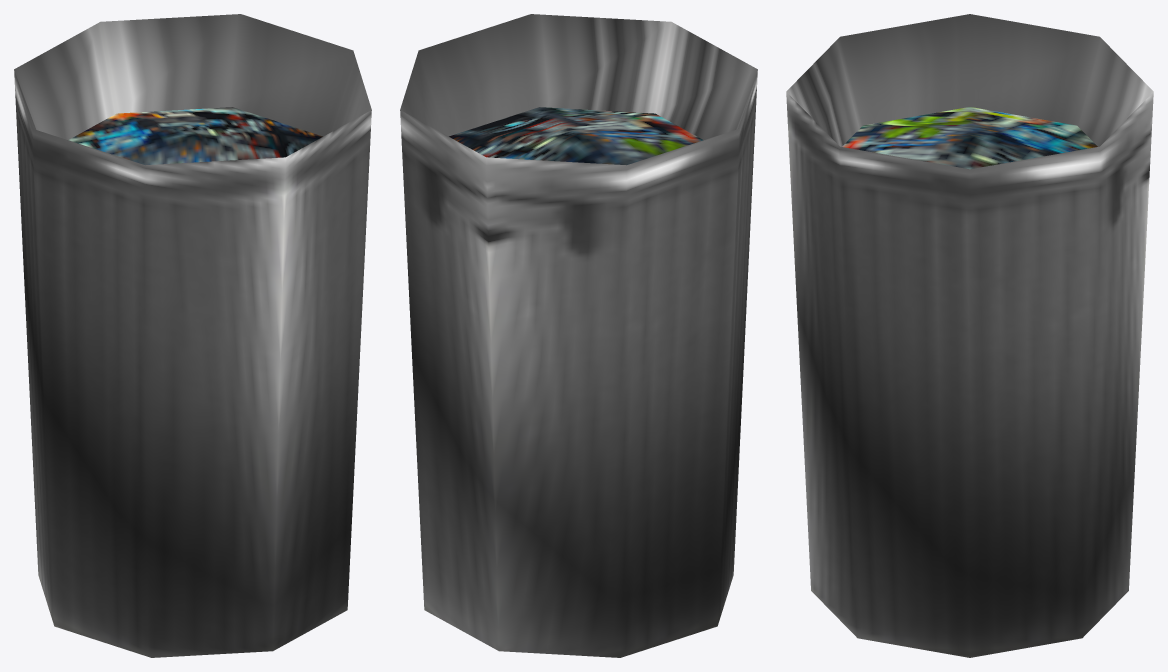
Rendered from TrasBinModle.glb.
3 renders of one model, left to right at view 1: azimuth 30°, elevation 25°; view 2: azimuth 150°, elevation 25°; view 3: azimuth 270°, elevation 25°, orthographic.
Parts seen in each view (by area): view 1: Cylinder; view 2: Cylinder; view 3: Cylinder.
Boxes of the visible parts, x1,y1,x2,y2 form: Cylinder: [14, 14, 371, 657]; Cylinder: [400, 14, 757, 657]; Cylinder: [786, 14, 1153, 657].
Size of the model in its own units: 2 by 3 by 2.
Materials: 1 (1 with a texture image).
